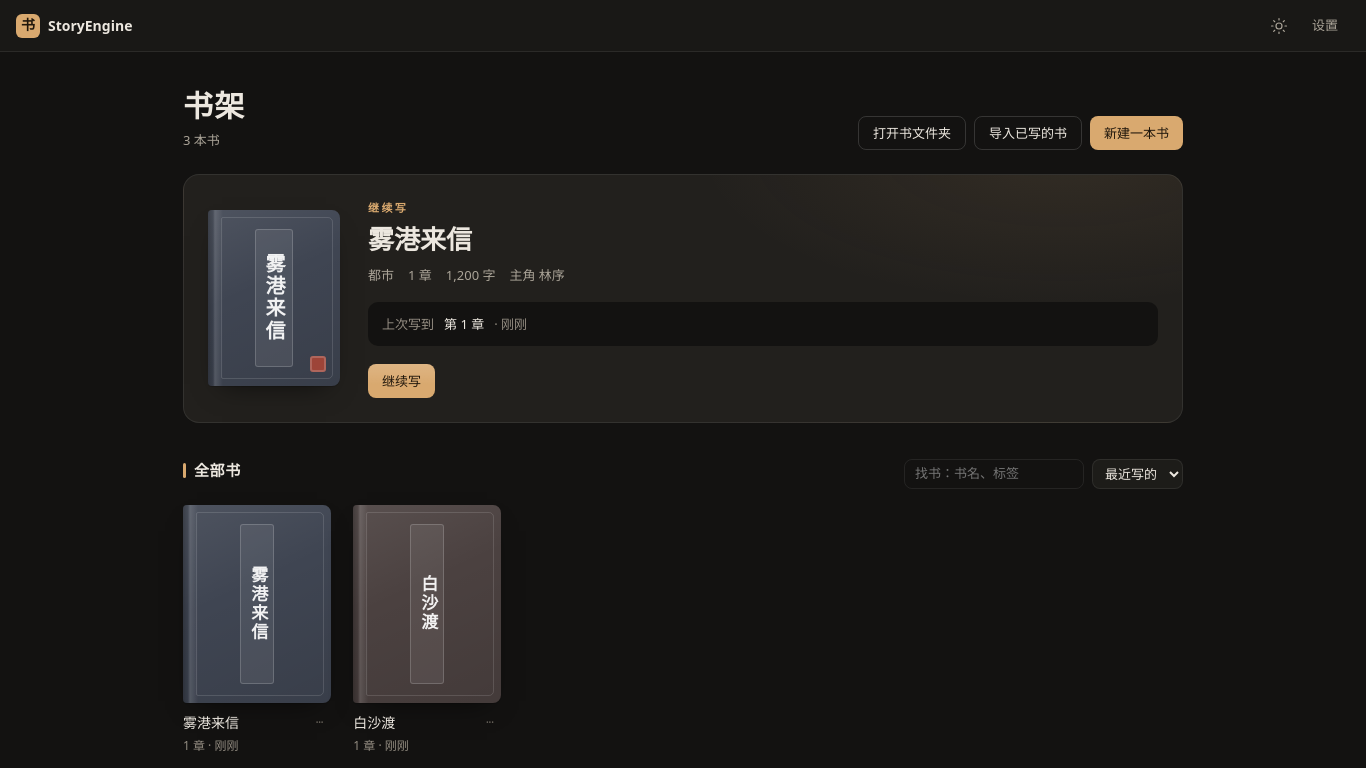
Scenario: HomeLanding › 找书：按书名、标签搜；归档的收进底部「已归档」，继续写卡换成没归档的那本
The image size is (1366, 768).
expect the 1st heading "雾港来信" is shown: met, box [368,226,472,255]
Type "悬疑" into the search field labelled "找书".
click(994, 474); type("悬疑")  # box [904,459,1084,489]
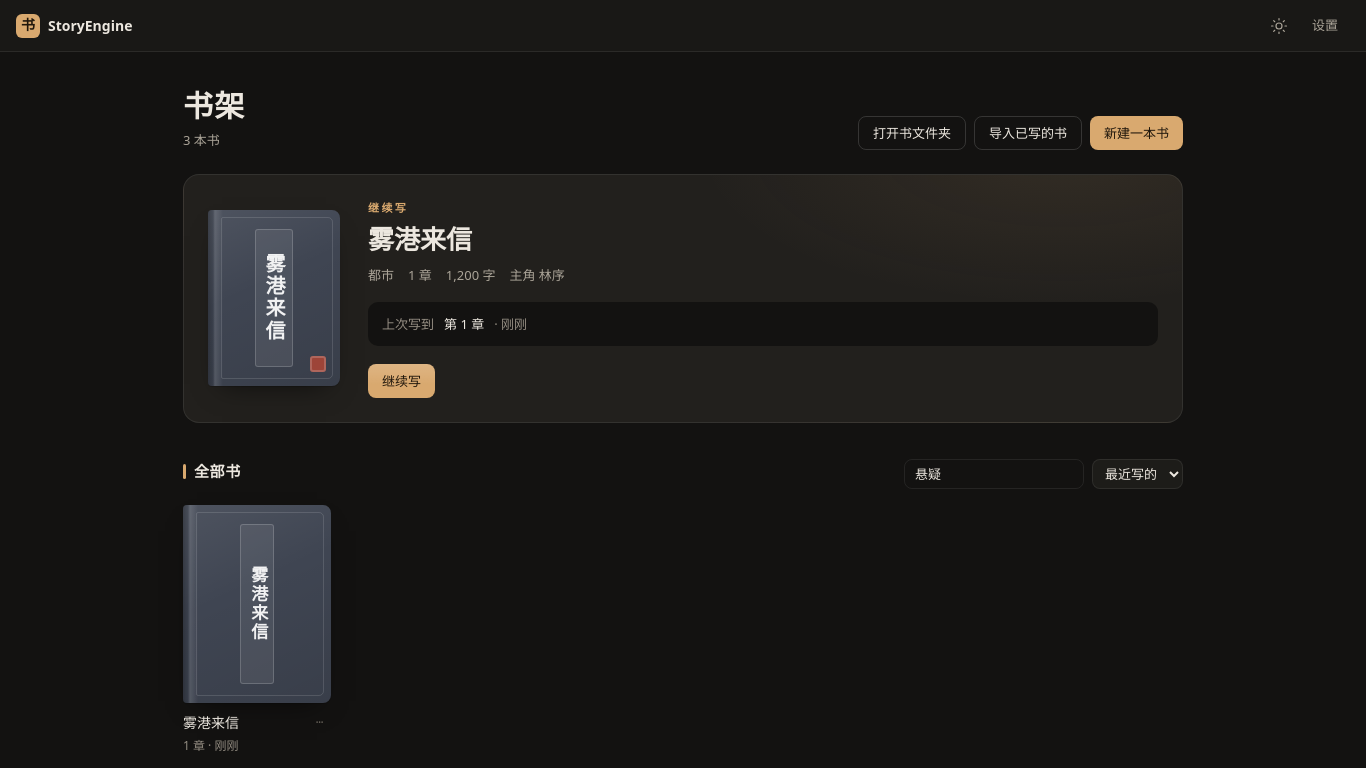
expect the button with aria-label "打开《雾港来信》" is shown: met, box [183,505,331,703]
expect the button "打开《白沙渡》" is gone: met
Replace the text in the search field named "找书" with "没有这本" at [994, 474], box [904,459,1084,489]
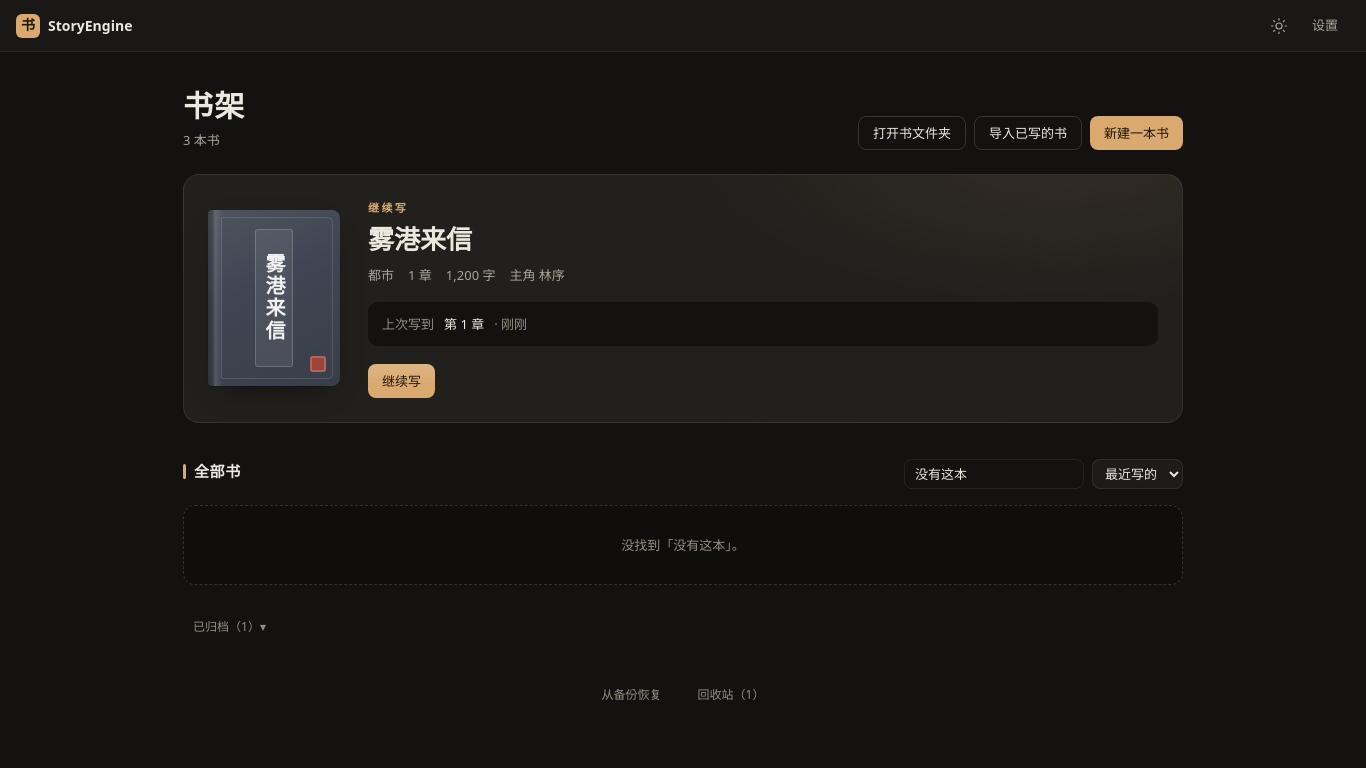
expect the text "没找到「没有这本」。" is shown: met, box [621,536,745,554]
Replace the text in the search field named "找书" with "海州" at [994, 474], box [904,459,1084,489]
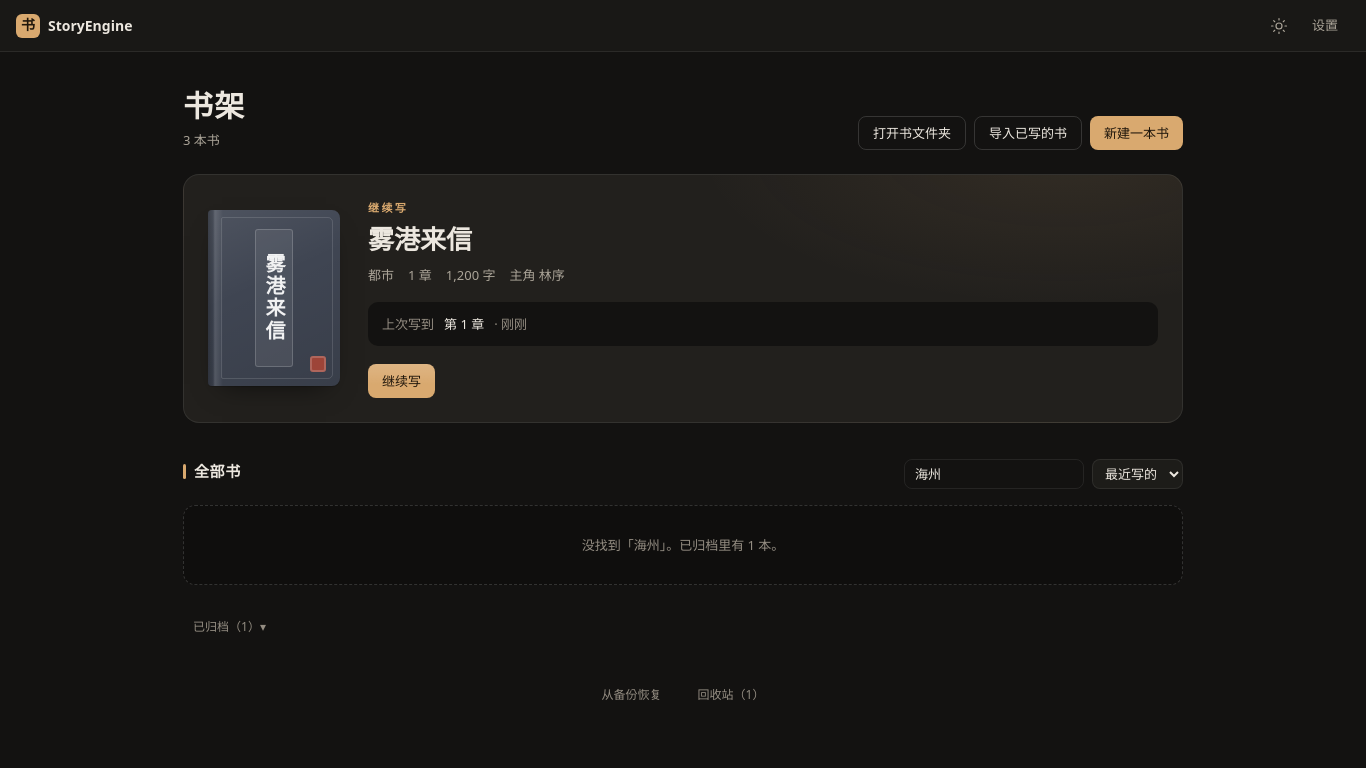
expect the text "没找到「海州」。已归档里有 1 本。" is shown: met, box [582,536,784,554]
Click the button "已归档（1）▾".
click(229, 627)  # box [183,613,276,641]
(page scrolled)
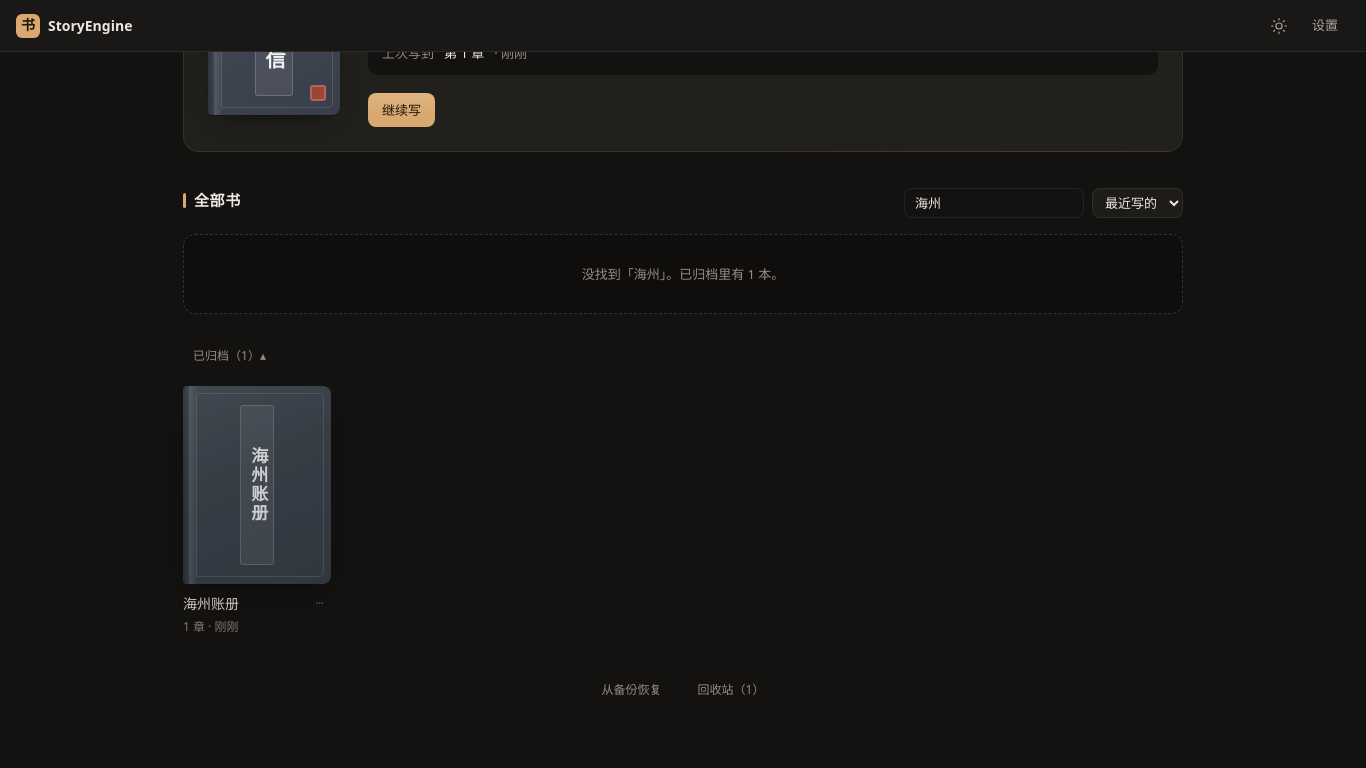
expect the button with aria-label "打开《海州账册》" is shown: met, box [183,386,331,584]
